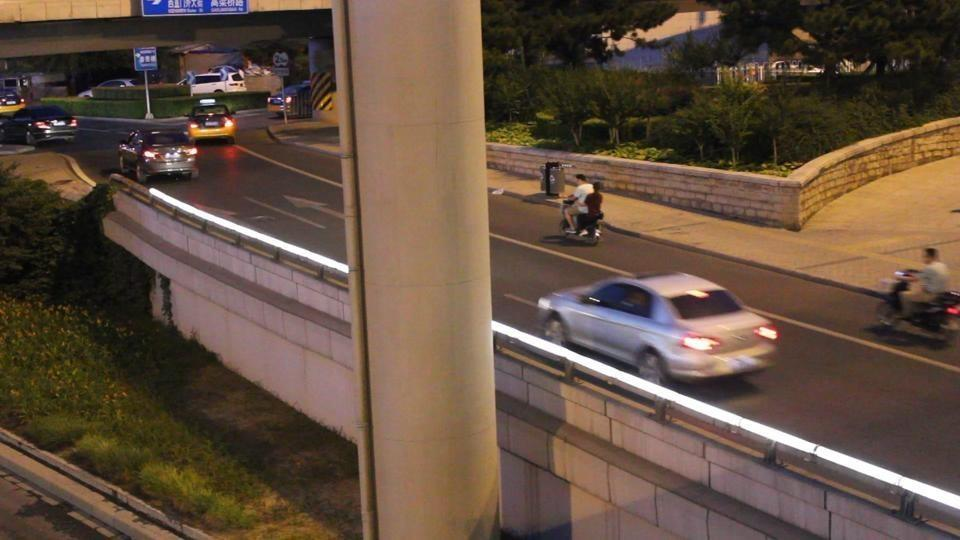car: (535, 272, 782, 386), (117, 126, 200, 183), (0, 104, 79, 148), (185, 100, 238, 146), (179, 68, 242, 97), (0, 77, 26, 109), (89, 78, 137, 93), (266, 94, 290, 109)
